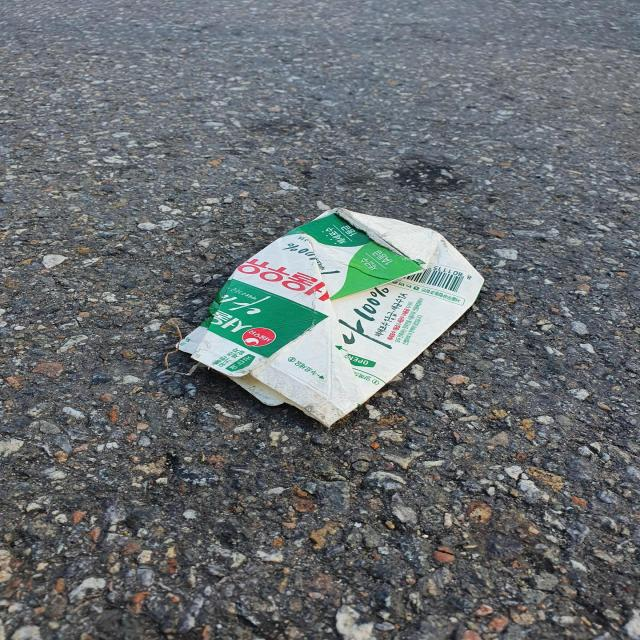paperpack: (178, 208, 484, 426)
